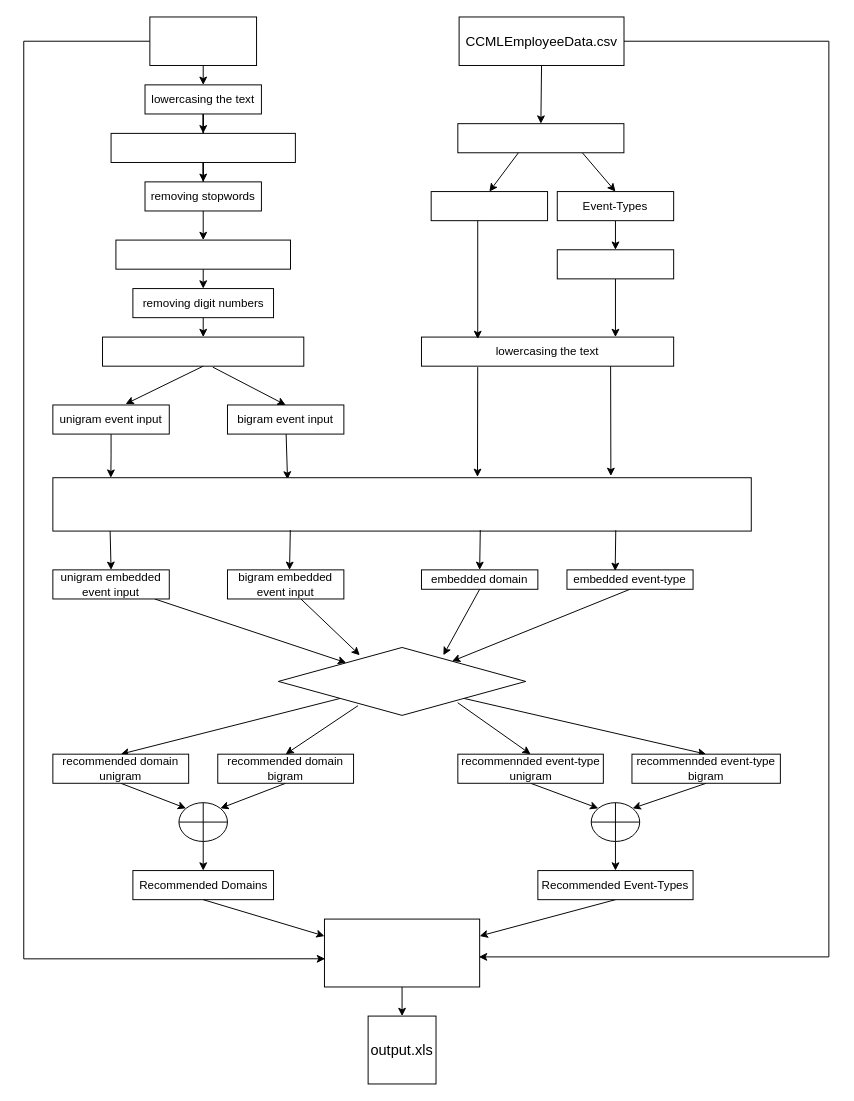
Some shapes in this 854 by 1101 pixel diagram are drawn without their labels. Each missing label, with the box of its shape:
convert word numbers to digit: (110, 132, 295, 162)
cosine_similarity >= threshold: (277, 647, 526, 715)
Domains: (430, 191, 548, 221)
Extract Domains, Event-Types: (457, 123, 624, 153)
input.csv: (149, 16, 257, 65)
Matching to get Recommended employees for respective input events: (323, 918, 480, 987)
plural to singlar: (556, 249, 674, 279)
Removing punctuation marks: (115, 239, 291, 269)
Text Embedding Pretrained tensorflow model: (52, 477, 751, 531)
Tokenizing into unigram and bigram: (102, 336, 304, 366)
